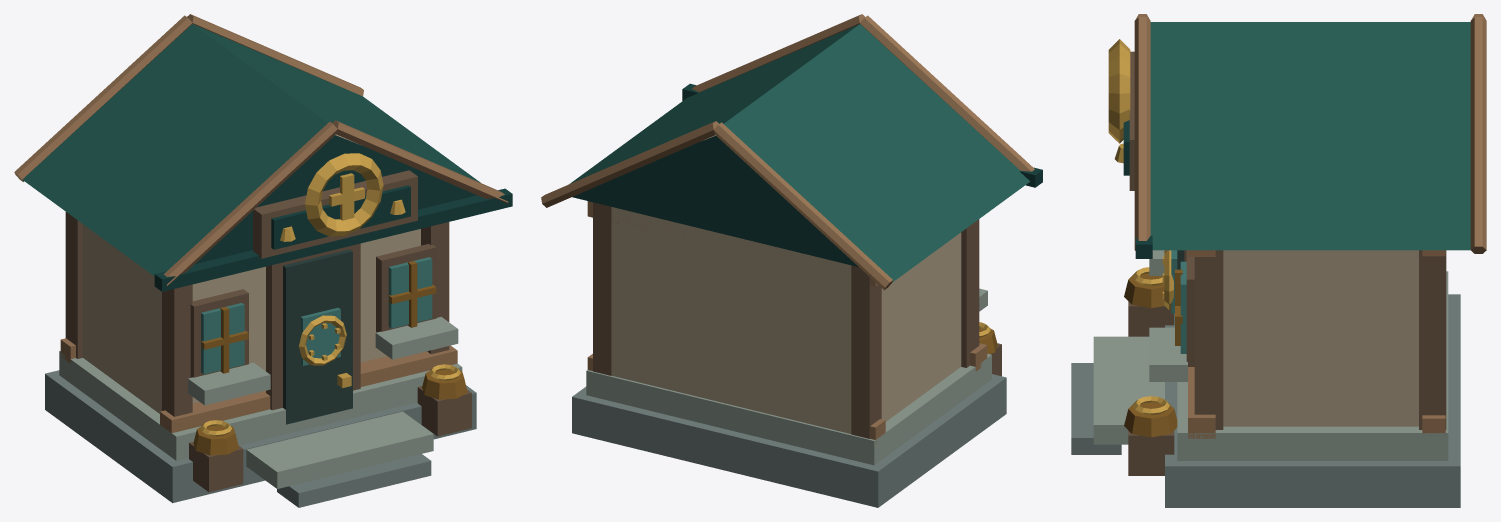
The model's file is timber_bank.glb.
3 renders of one model, left to right at view 1: azimuth 30°, elevation 25°; view 2: azimuth 150°, elevation 25°; view 3: azimuth 270°, elevation 25°, orthographic. The views are drawn at different scales.
Visible parts, largest first — view 1: timber_bank; view 2: timber_bank; view 3: timber_bank.
Boxes of the visible parts, bbox=[...] form: timber_bank: bbox=[14, 14, 512, 507]; timber_bank: bbox=[541, 14, 1042, 507]; timber_bank: bbox=[1071, 14, 1486, 507].
Size of the model in its own units: 3.25 by 3.11 by 2.88.
